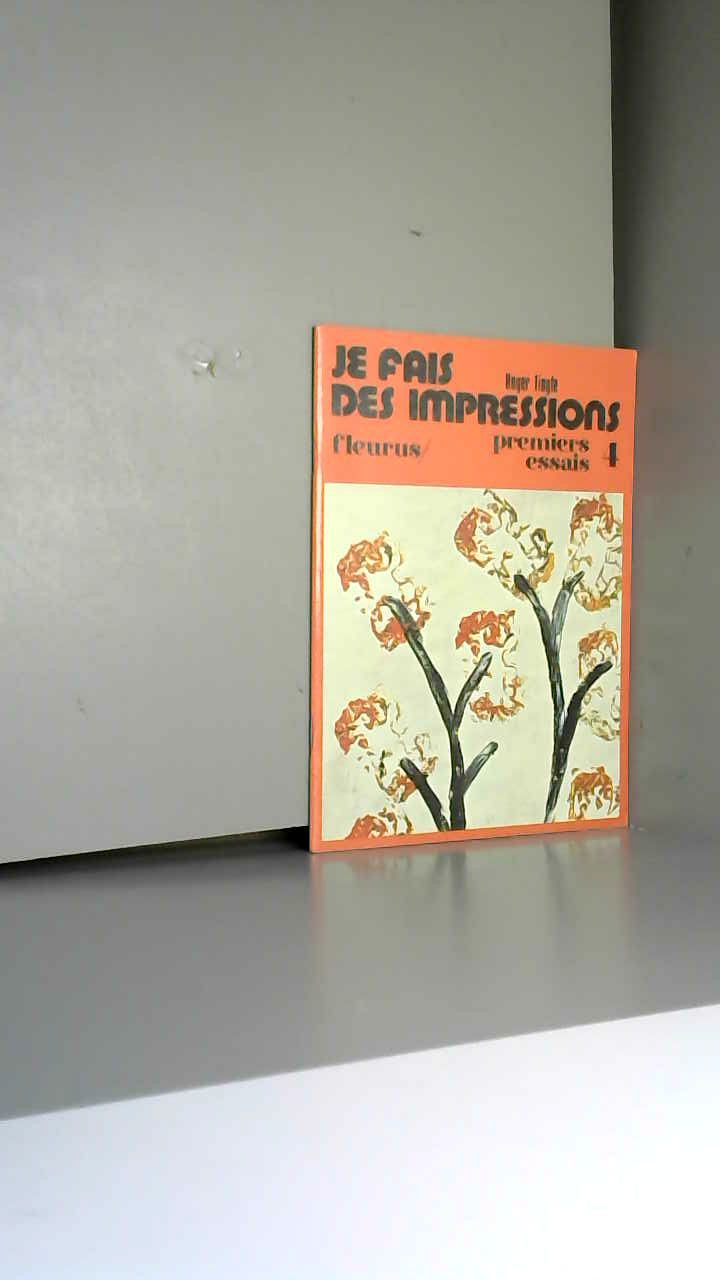book: (290, 290, 720, 907)
